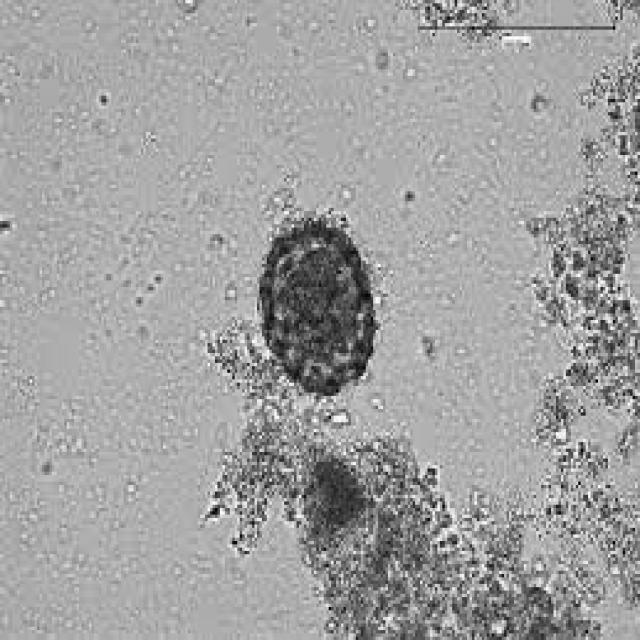Ascaris Lumbricoides: (251, 216, 382, 398)
